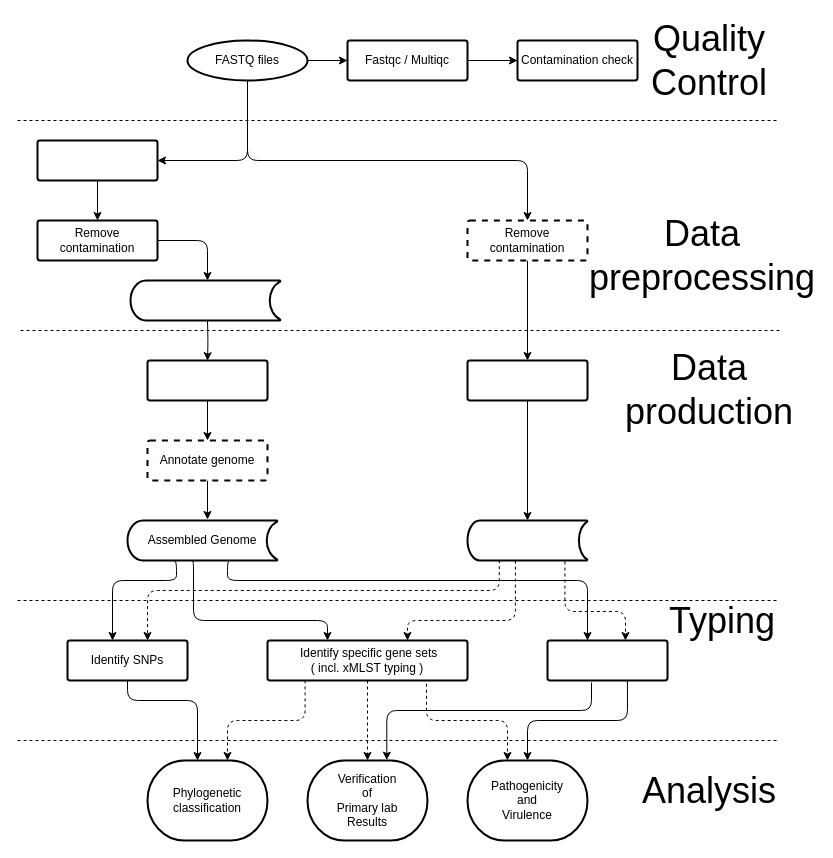
Image size: 833x858. Some labels were removed from this diagram. The box of each missing label's shape, as (x1, y1, x2, y2) in pixels:
Cleaned FASTQ files: (129, 279, 281, 321)
Do de novo genome assembly: (146, 359, 268, 401)
Do reference based mapping: (466, 359, 588, 401)
Identify mobile genetic elements: (546, 639, 668, 681)
Reference map: (466, 519, 588, 561)
Remove adapters / low quality bases: (36, 139, 158, 181)
